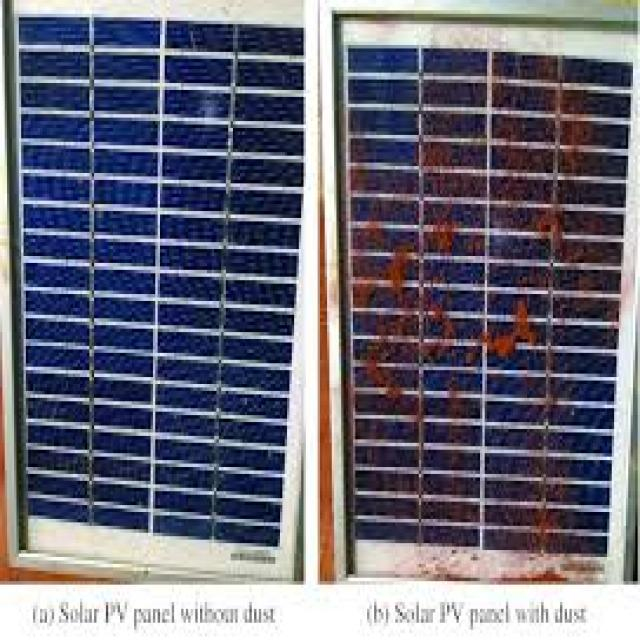faulty: (346, 48, 624, 572)
no faulty: (16, 22, 305, 577)
